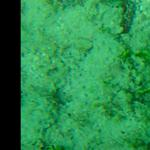dead: (18, 1, 148, 148)
